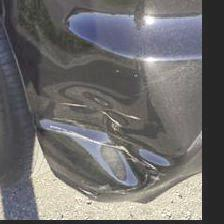bumper_dent: (36, 61, 163, 193)
